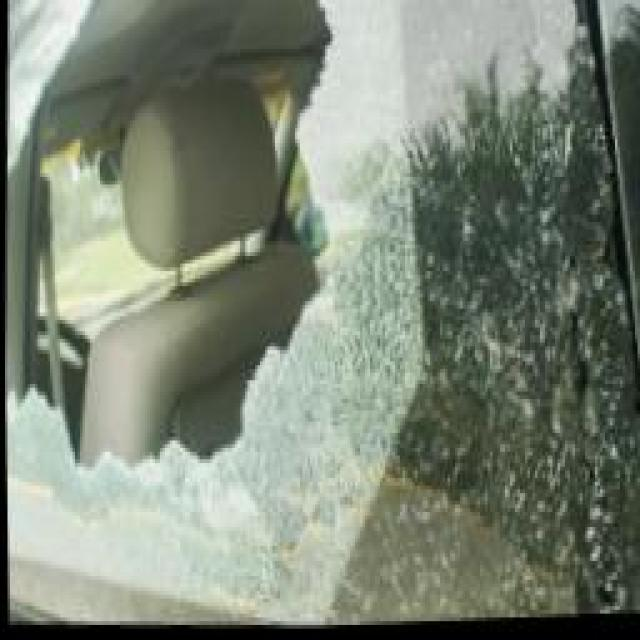Door: (0, 0, 627, 640)
